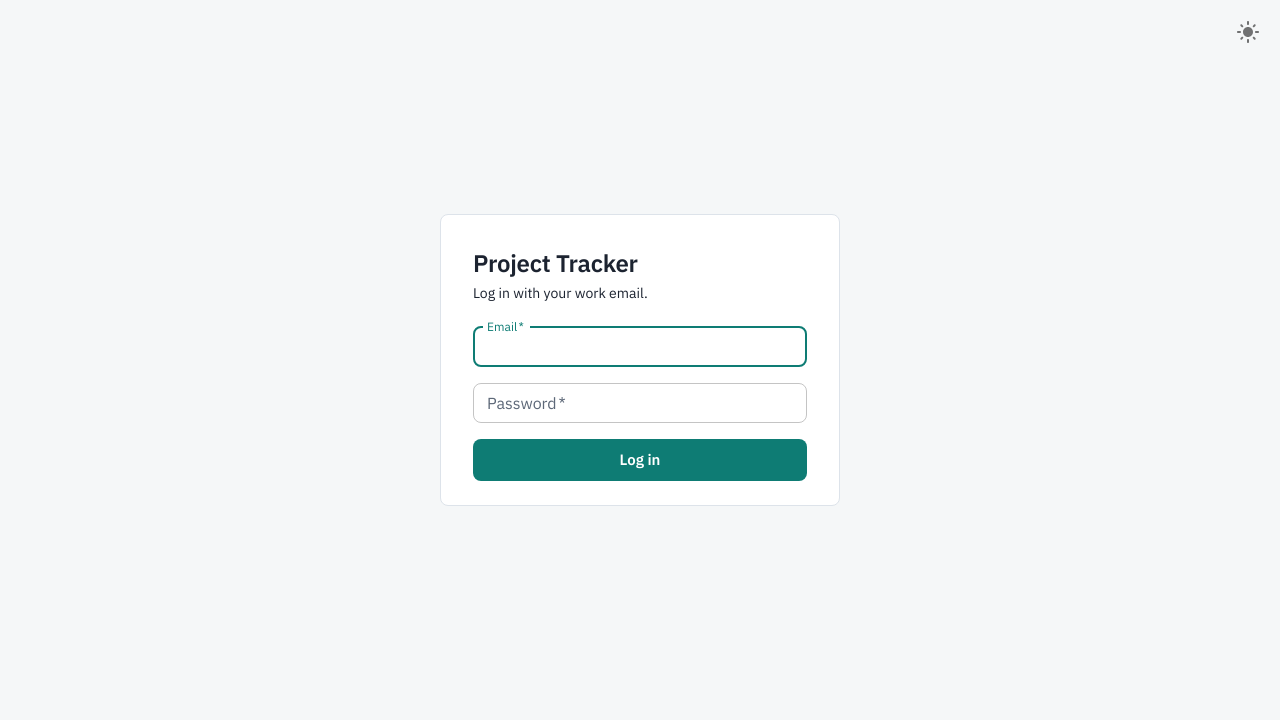
light and dark mode › still switches when browser storage is blocked, without saving
Click the button named "Appearance". click: (1248, 32)
box: left=1228, top=12, right=1268, bottom=52
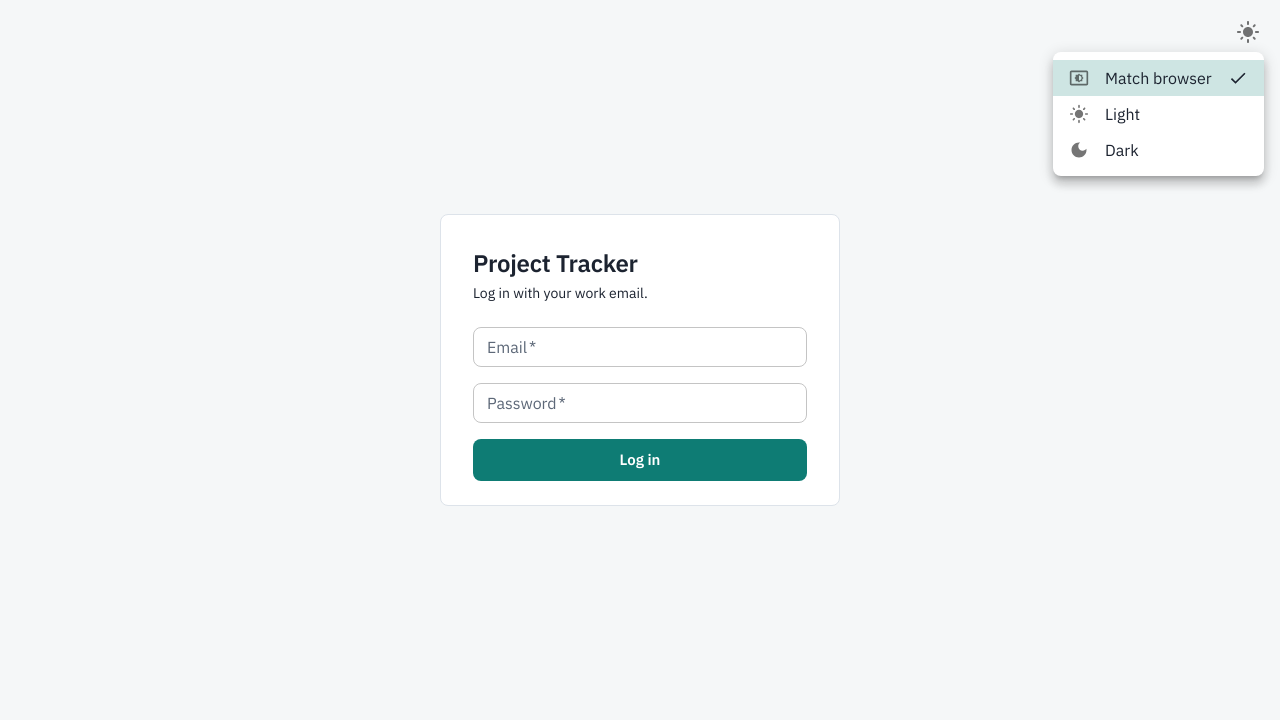
Click the menu item "Dark". click: (1104, 150)
box: left=1069, top=140, right=1139, bottom=160
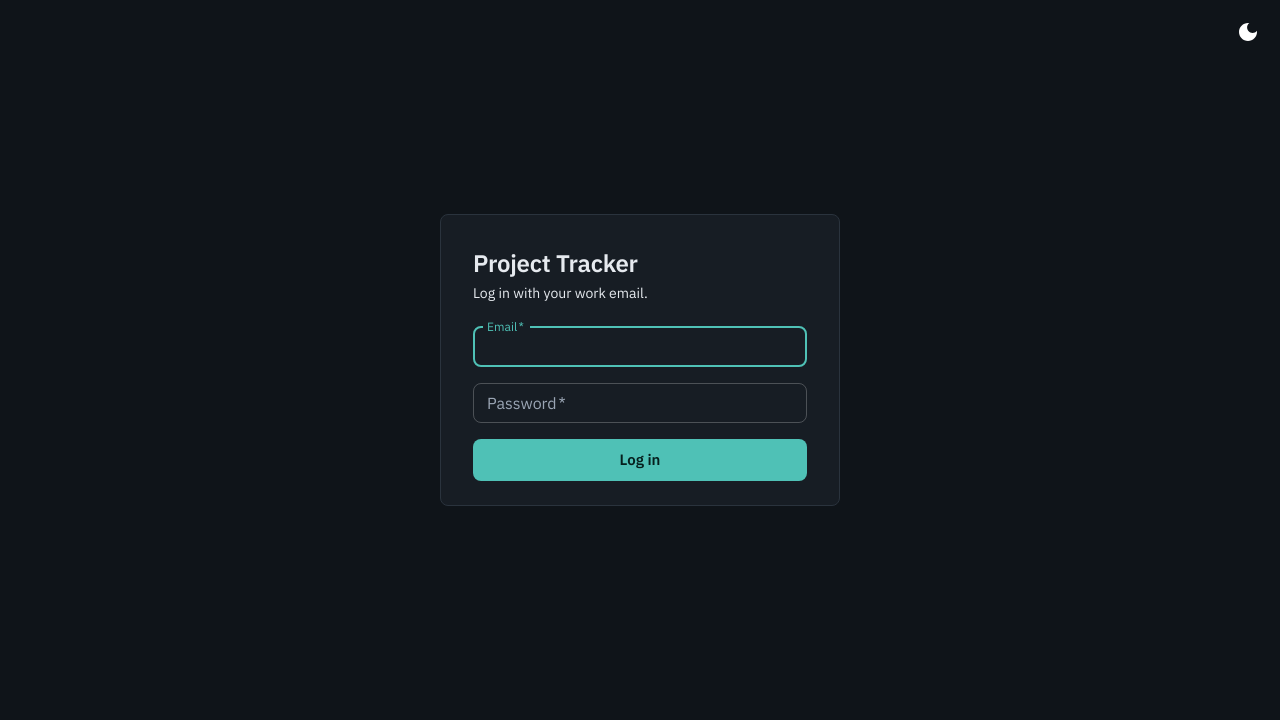
expect the menu is gone: met
Click the button named "Appearance". click: (1248, 32)
box: left=1228, top=12, right=1268, bottom=52
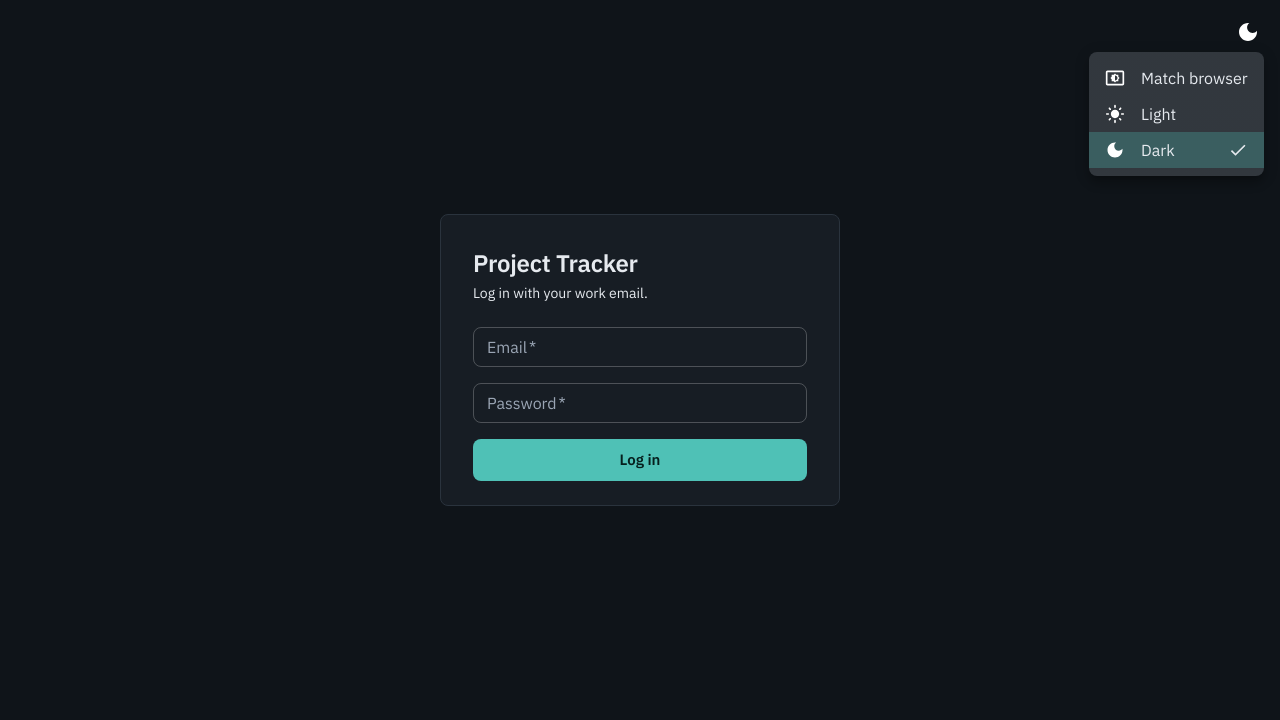
Click the menu item "Match browser". click: (1176, 78)
box: left=1105, top=68, right=1248, bottom=88
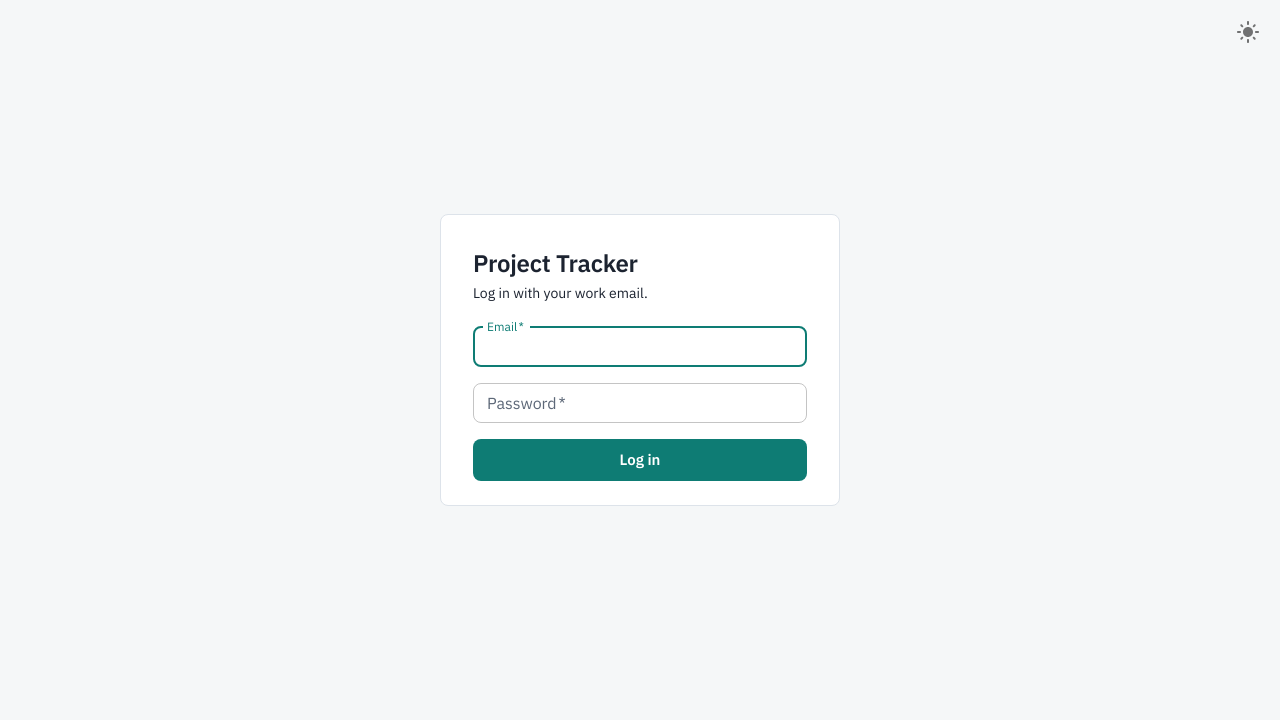
expect the menu is gone: met
